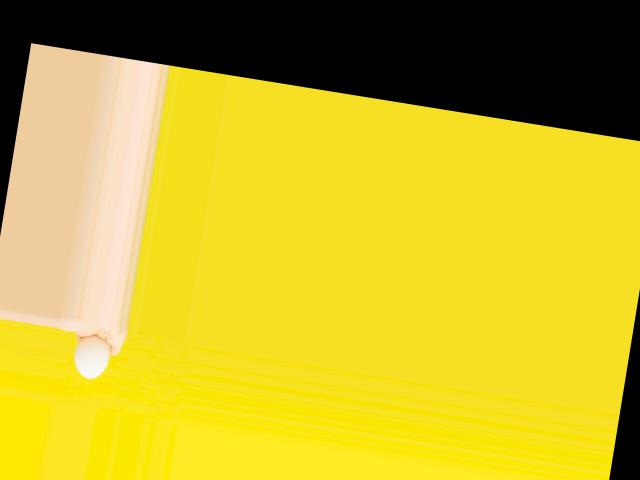egg: (72, 332, 112, 381)
